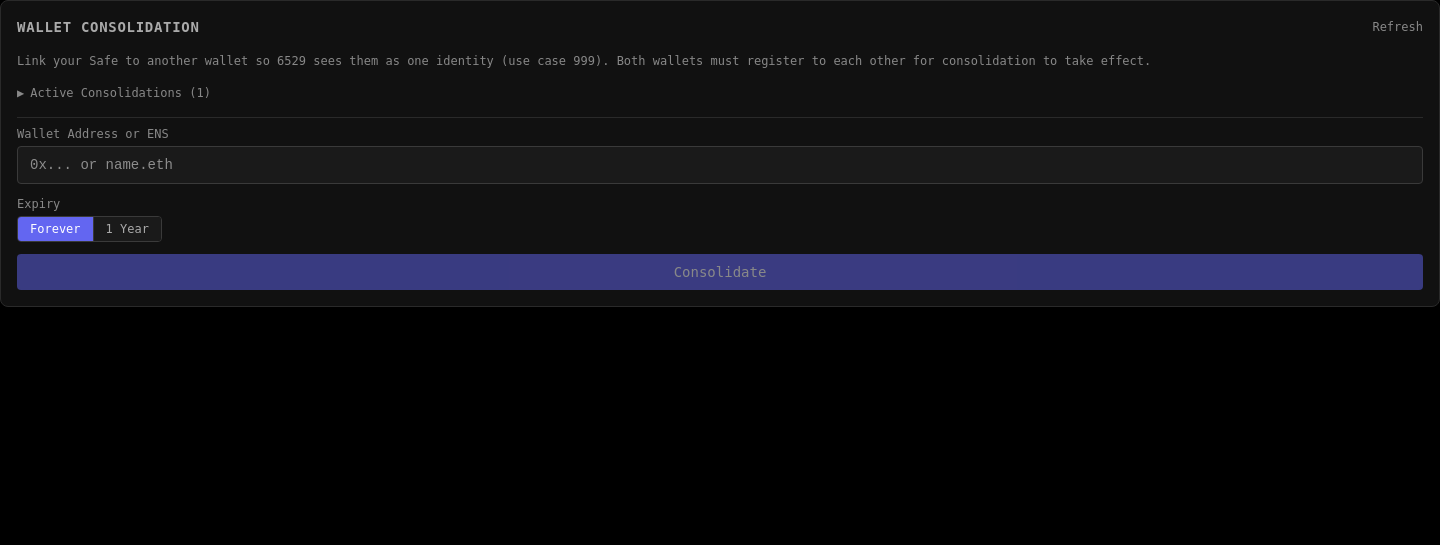
Test: ConsolidationCard chain ID guard › blocks accept on wrong chain
# Expand active consolidations
Click the button "▶ Active Consolidations (1)".
click(114, 93)  # box [17,85,211,101]
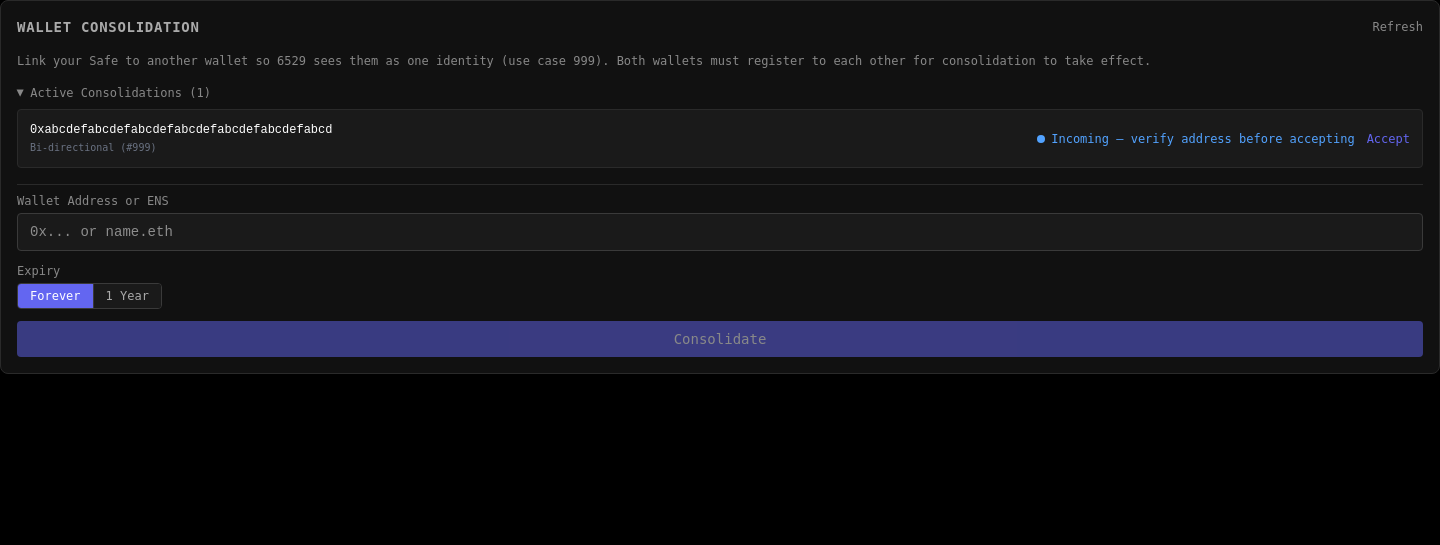
# Click Accept to open confirmation
Click the button "Accept".
click(1388, 138)  # box [1367,130,1410,146]
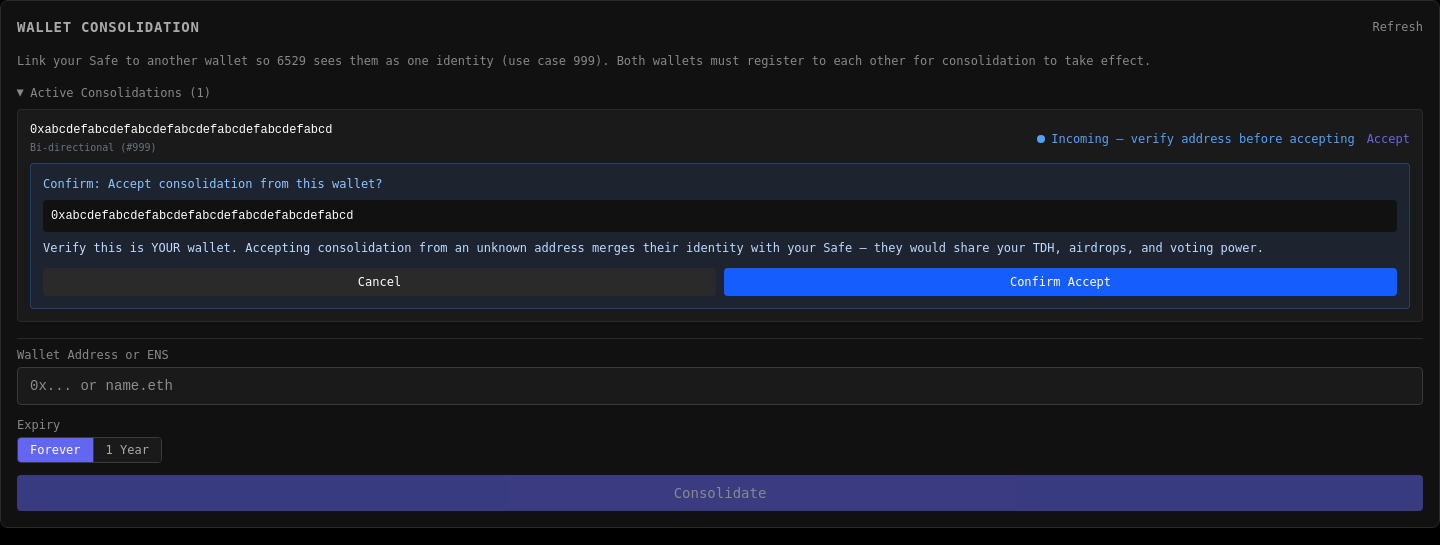
# Confirm the accept
Click the button "Confirm Accept".
click(1060, 282)  # box [724,268,1397,296]
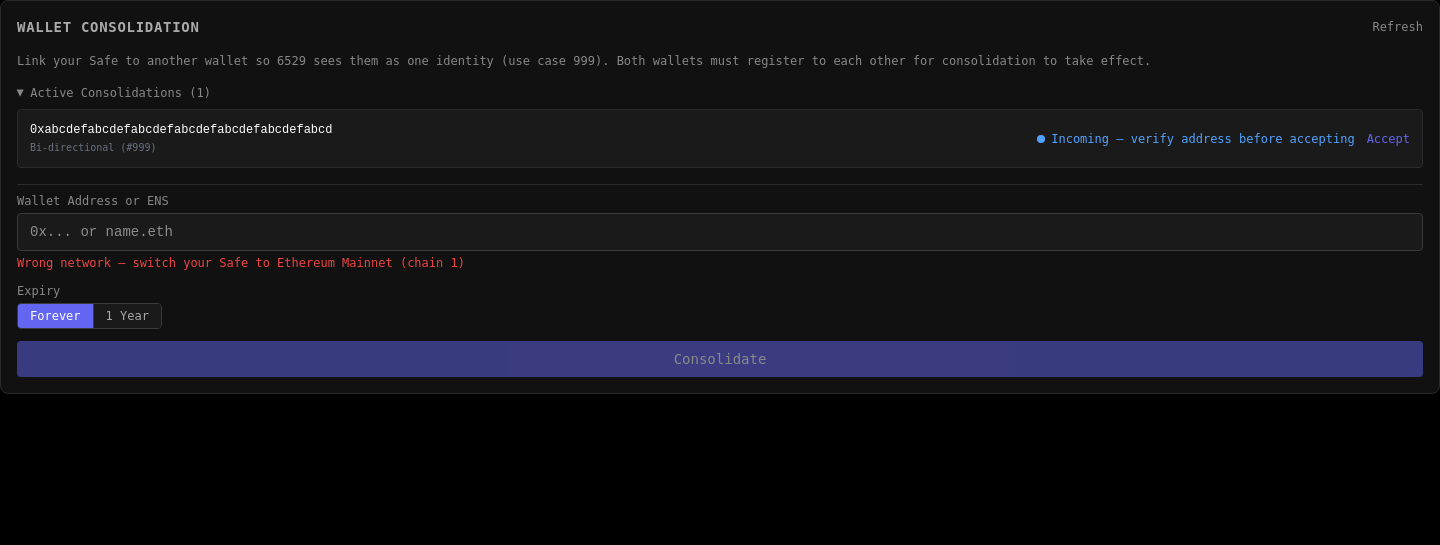
Check: the text "Wrong network — switch your Safe to Ethereum Mainnet (chain 1)" is shown, box [17,256,465,270]
